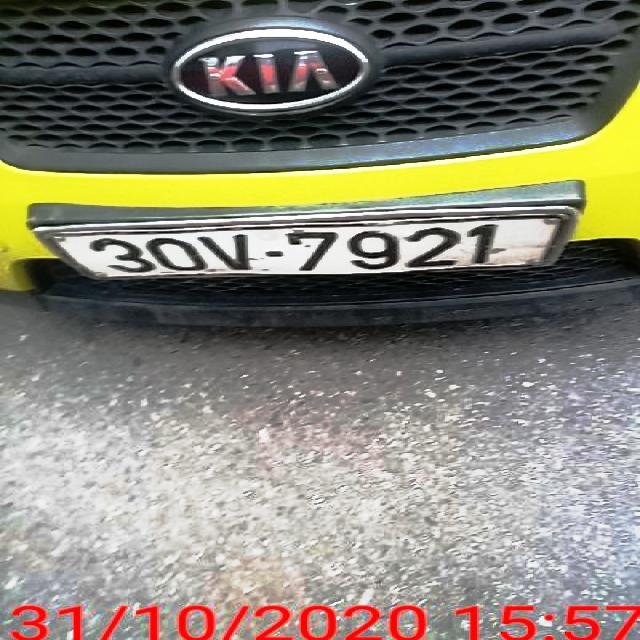license_plate: (46, 219, 565, 281)
